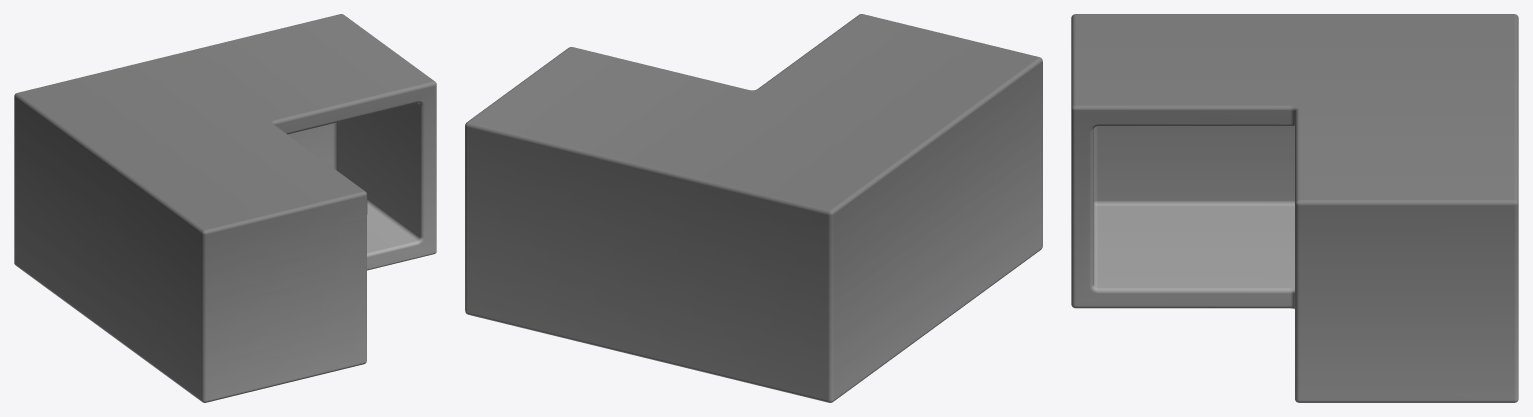
File: HH_Counter_TopUnit.fbx
The picture shows the model from 3 angles, left to right: view 1: azimuth 30°, elevation 25°; view 2: azimuth 150°, elevation 25°; view 3: azimuth 270°, elevation 25°; orthographic projection. The views are drawn at different scales.
Parts seen in each view (by area): view 1: Counter_Top; view 2: Counter_Top; view 3: Counter_Top.
Boxes of the visible parts, x1,y1,x2,y2 form: Counter_Top: [14, 14, 436, 402]; Counter_Top: [465, 14, 1042, 402]; Counter_Top: [1071, 14, 1518, 402].
Bounding box in the file's own units: 200 × 100 × 200.
1 material, 1 textured.
